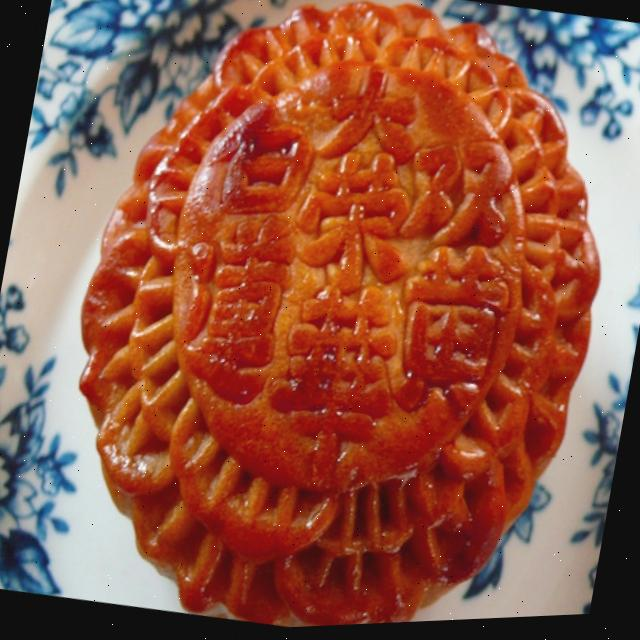蛋糕甜品: (49, 0, 640, 638)
